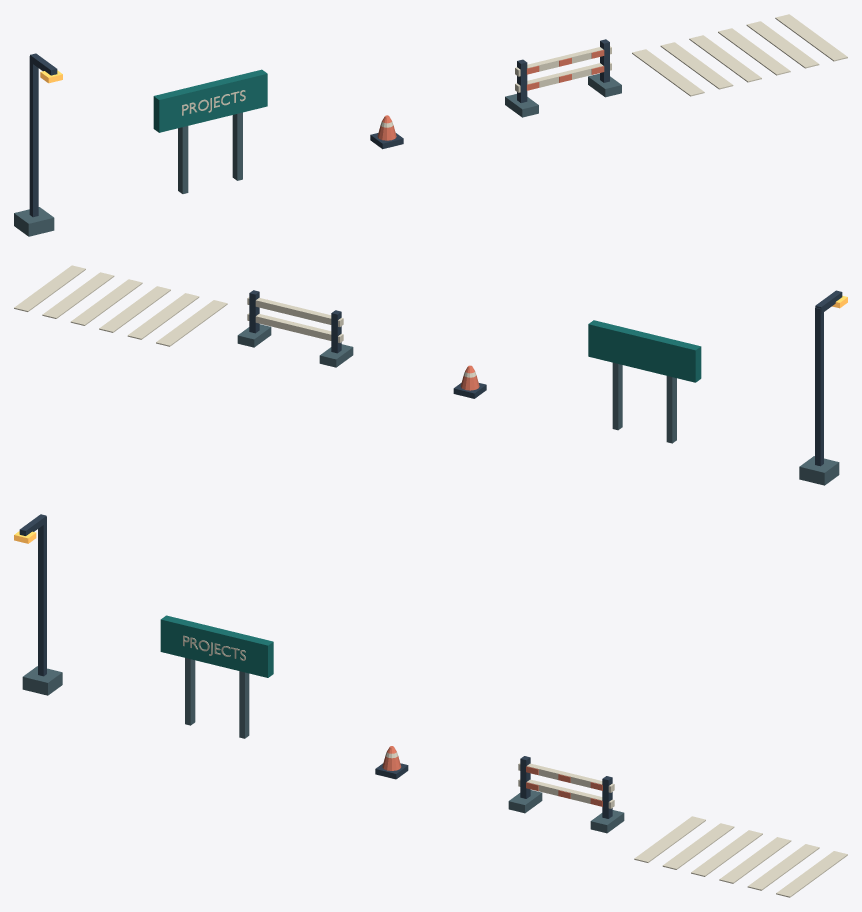
Rendered from street-props.glb.
3 renders of one model, top to bottom at view 1: azimuth 30°, elevation 25°; view 2: azimuth 150°, elevation 25°; view 3: azimuth 330°, elevation 25°, orthographic.
Parts seen in each view (by area): view 1: Sign panel, Pole, Crossing stripe.002, Crossing stripe.005, Crossing stripe.001, Crossing stripe.004, Crossing stripe.003, Crossing stripe, Base, Post, Post.001, Rail.001 (+3 smaller); view 2: Sign panel, Pole, Crossing stripe.001, Crossing stripe.004, Crossing stripe, Crossing stripe.003, Crossing stripe.005, Crossing stripe.002, Rail, Rail.001, Base, Post.001 (+3 smaller); view 3: Sign panel, Pole, Crossing stripe.003, Crossing stripe.004, Crossing stripe, Crossing stripe.002, Crossing stripe.001, Crossing stripe.005, Base, Post.001, Post.
Part boxes in pixels (bbox=[...]): Sign panel: bbox=[153, 69, 267, 132]; Pole: bbox=[29, 56, 38, 217]; Crossing stripe.002: bbox=[689, 35, 761, 82]; Crossing stripe.005: bbox=[775, 14, 847, 61]; Crossing stripe.001: bbox=[660, 42, 733, 89]; Crossing stripe.004: bbox=[746, 21, 819, 68]; Crossing stripe.003: bbox=[718, 28, 790, 75]; Crossing stripe: bbox=[632, 49, 704, 96]; Base: bbox=[14, 207, 54, 236]; Post: bbox=[178, 126, 188, 193]; Post.001: bbox=[232, 112, 242, 180]; Rail.001: bbox=[515, 46, 611, 76]; Sign panel: bbox=[588, 320, 701, 382]; Pole: bbox=[815, 307, 823, 466]; Crossing stripe.001: bbox=[127, 293, 199, 339]; Crossing stripe.004: bbox=[42, 272, 114, 318]; Crossing stripe: bbox=[156, 300, 227, 346]; Crossing stripe.003: bbox=[70, 279, 142, 325]; Crossing stripe.005: bbox=[14, 265, 85, 311]; Crossing stripe.002: bbox=[99, 286, 170, 332]; Rail: bbox=[247, 313, 343, 342]; Rail.001: bbox=[247, 297, 343, 326]; Base: bbox=[799, 456, 839, 485]; Post.001: bbox=[612, 362, 622, 430]; Sign panel: bbox=[160, 615, 273, 677]; Pole: bbox=[38, 517, 46, 676]; Crossing stripe.003: bbox=[719, 837, 791, 883]; Crossing stripe.004: bbox=[747, 844, 819, 890]; Crossing stripe: bbox=[634, 816, 705, 862]; Crossing stripe.002: bbox=[691, 830, 762, 876]; Crossing stripe.001: bbox=[662, 823, 734, 869]; Crossing stripe.005: bbox=[776, 851, 847, 897]; Base: bbox=[22, 666, 62, 695]; Post.001: bbox=[239, 671, 249, 738]; Post: bbox=[185, 658, 195, 725].
Size of the model in its own units: 18.07 by 3.76 by 2.3.
